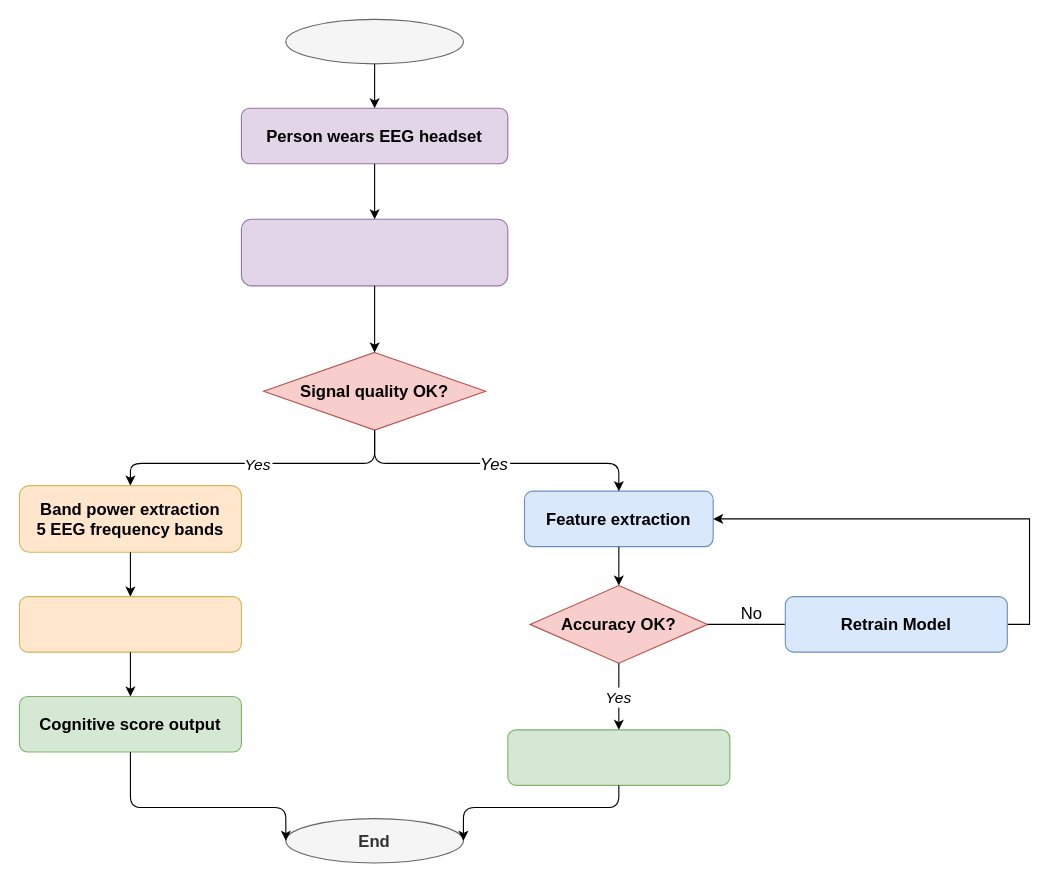
Some shapes in this 1058 by 882 pixel diagram are drawn without their labels. Here are the shapes that lost their labels. From the top down, the box of each, then its label:
(285, 18, 463, 64): Start
(240, 218, 508, 286): EEG + audio recorded (audio used for labeling only)
(18, 596, 241, 652): Weight each band
(507, 729, 730, 785): Word prediction output
